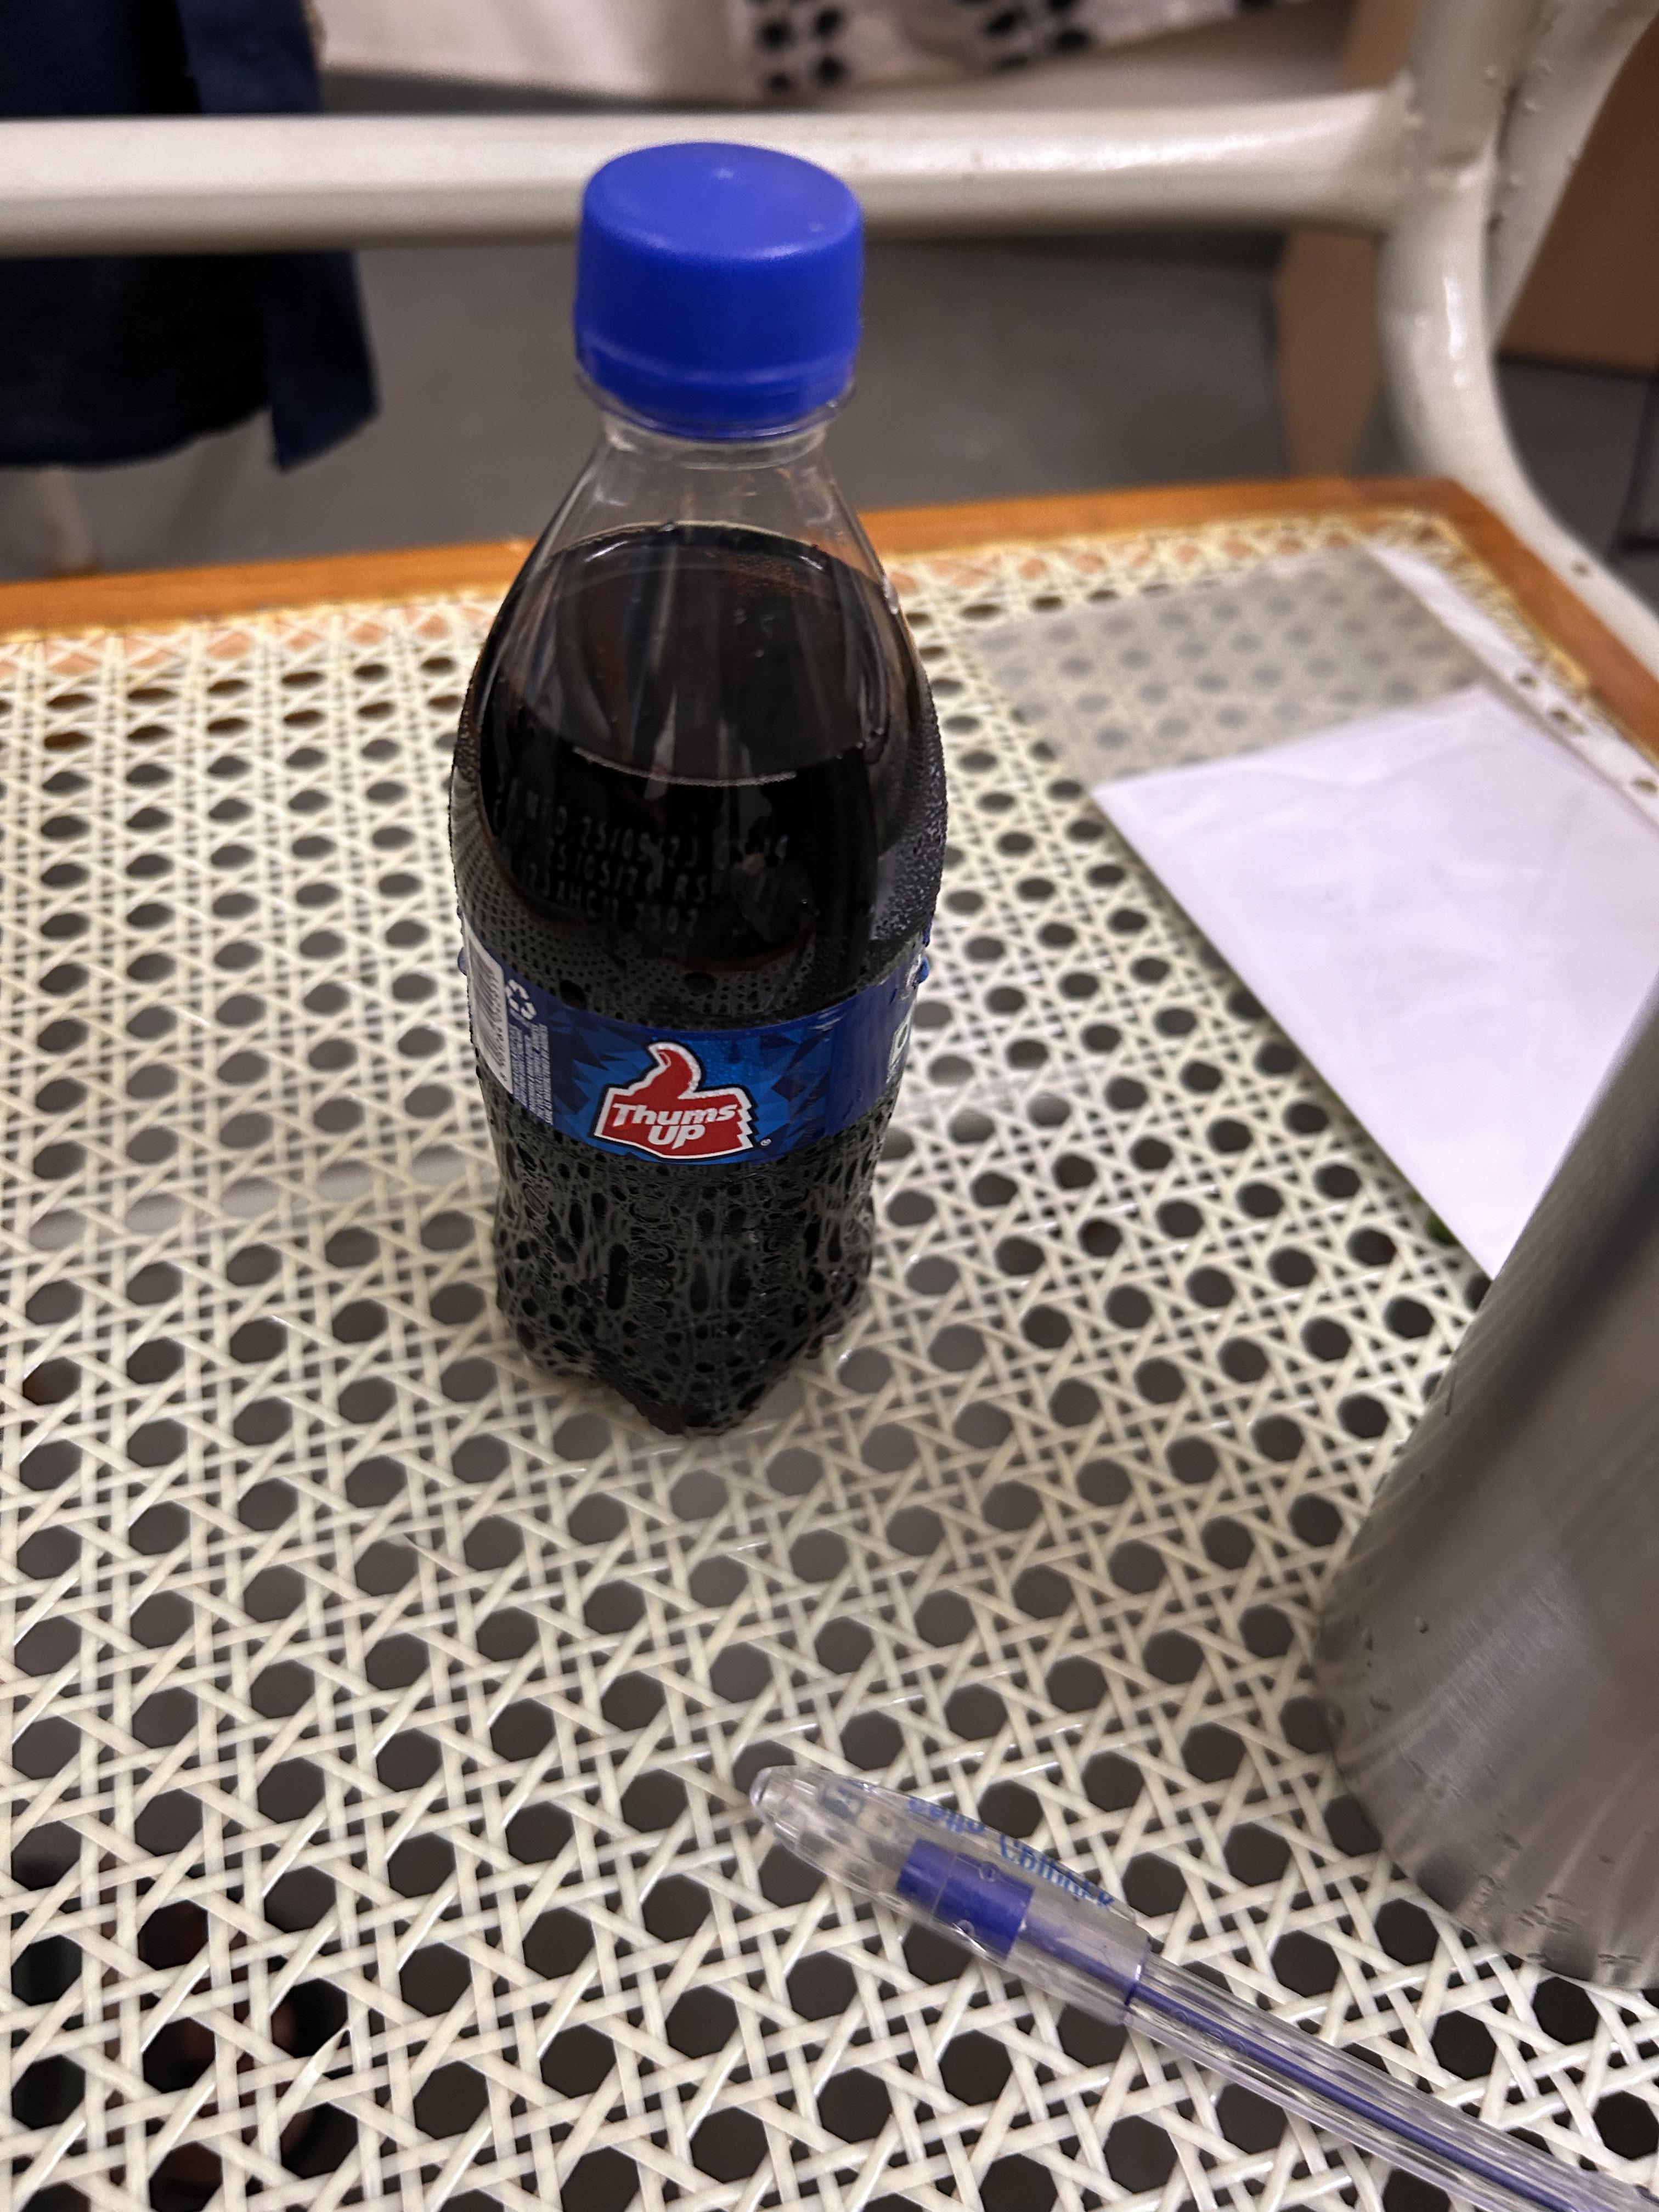sealstable: (558, 132, 890, 442)
